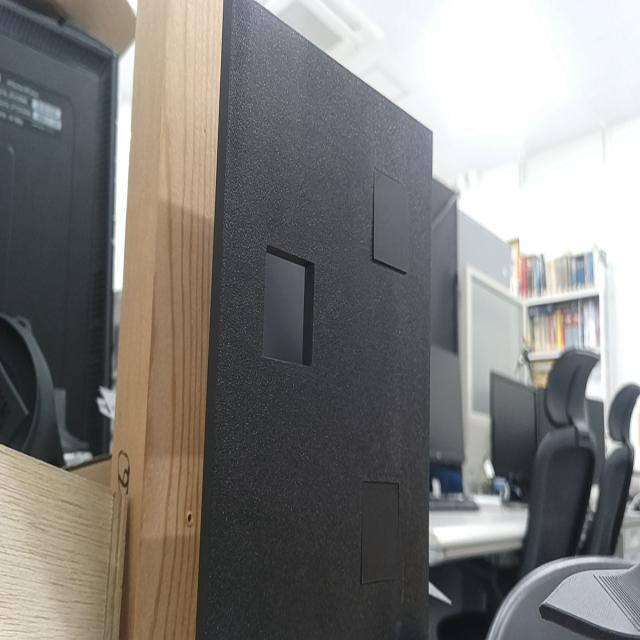Obstacle: (263, 245, 315, 362)
Wall: (207, 0, 433, 639)
